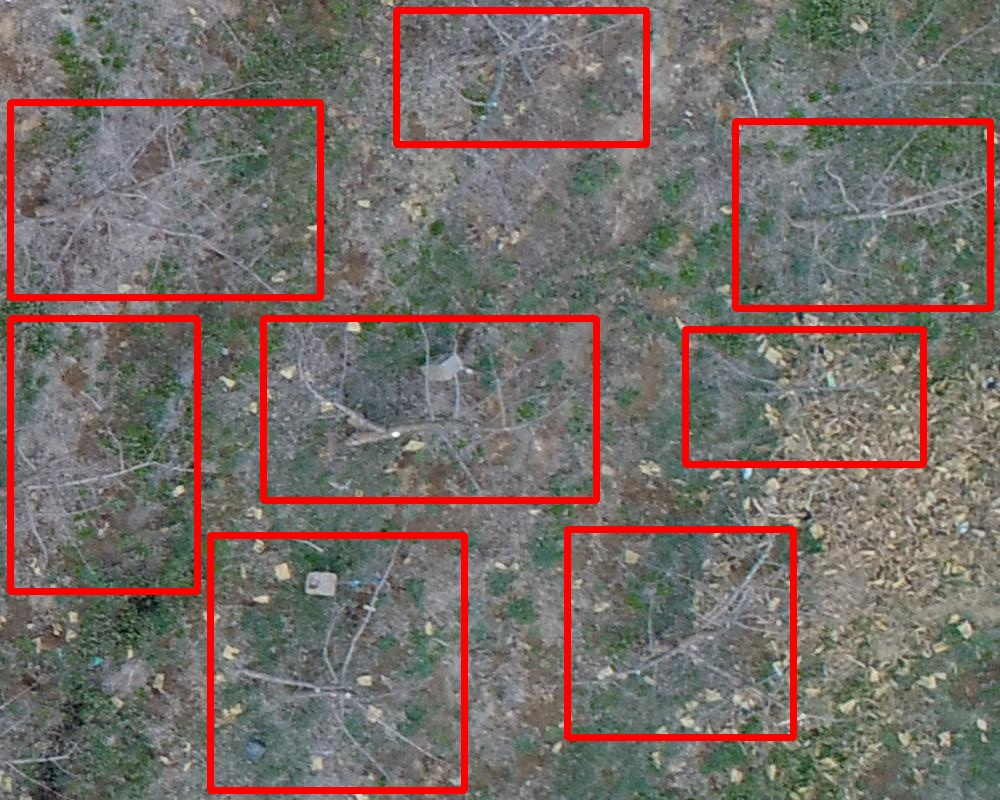apple: (210, 535, 464, 790), (263, 318, 596, 500), (10, 102, 320, 297), (10, 318, 197, 591), (735, 121, 990, 308), (567, 529, 793, 737), (396, 10, 646, 144), (685, 329, 923, 464)
